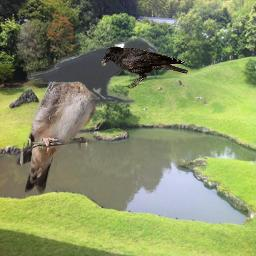Crow: (26, 37, 158, 104), (100, 46, 188, 89)
Swallow: (15, 56, 103, 194)
